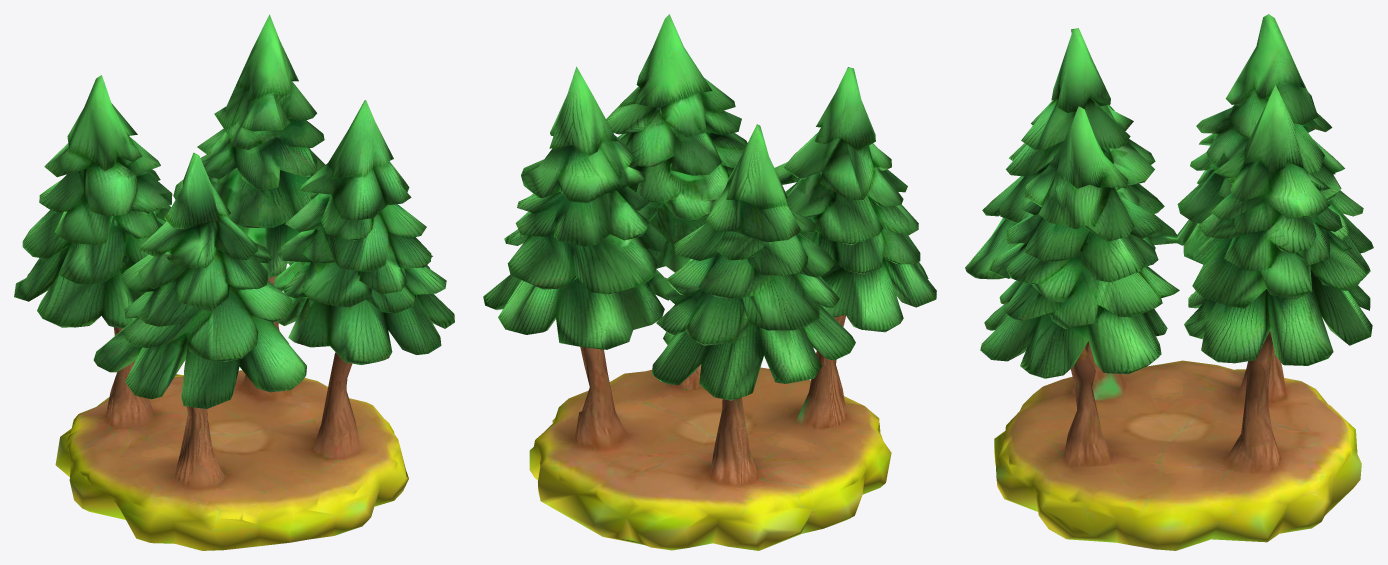
The model's file is fan-cluster.glb.
3 views of the same model, side by side, from view 1: azimuth 30°, elevation 25°; view 2: azimuth 150°, elevation 25°; view 3: azimuth 270°, elevation 25° (orthographic). The views are drawn at different scales.
Size of the model in its own units: 1.57 by 1.91 by 1.61.
Materials: 1 (1 with a texture image).
